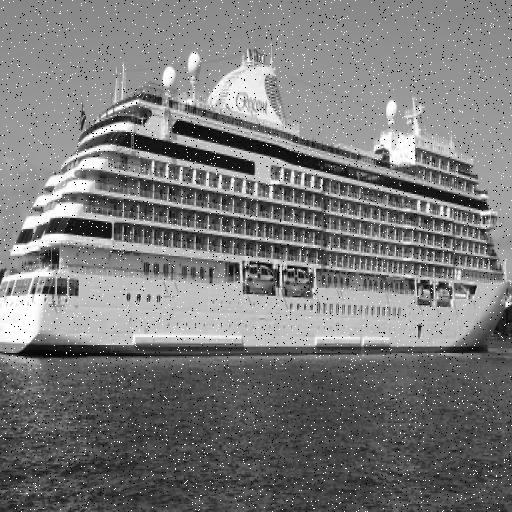cruises: (1, 39, 512, 375)
